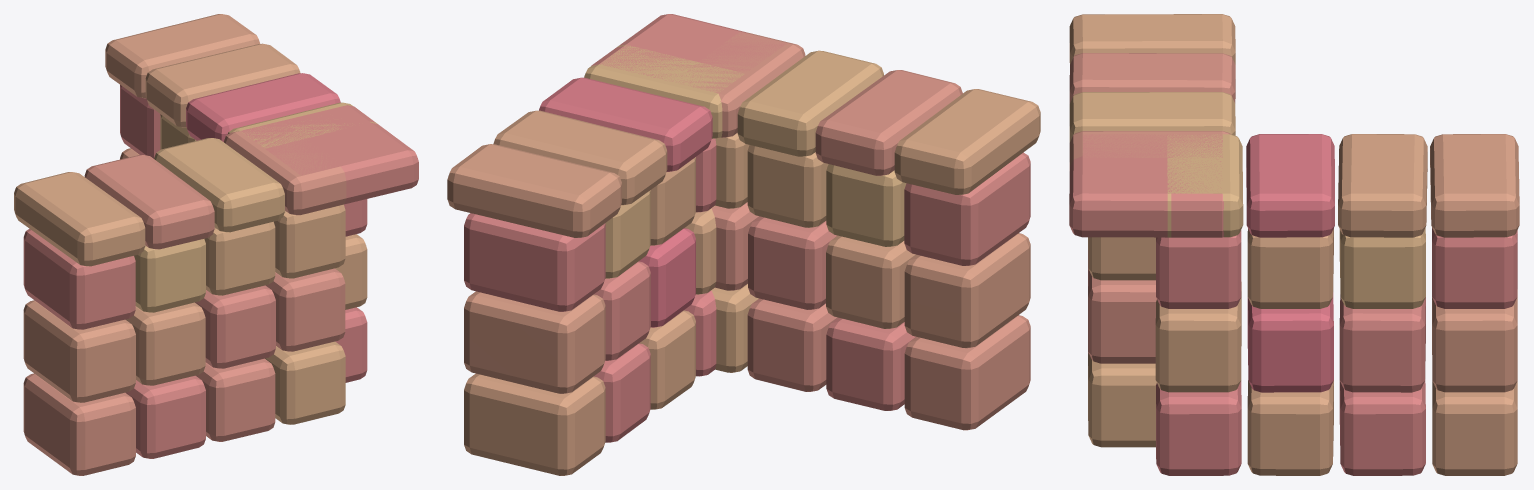
The model's file is WC_RIVER_Bank_Outer_A.glb.
The picture shows the model from 3 angles, left to right: view 1: azimuth 30°, elevation 25°; view 2: azimuth 150°, elevation 25°; view 3: azimuth 270°, elevation 25°; orthographic projection. The views are drawn at different scales.
Visible parts, largest first — view 1: WC_RIVER_Bank_Outer_A_RenderMesh; view 2: WC_RIVER_Bank_Outer_A_RenderMesh; view 3: WC_RIVER_Bank_Outer_A_RenderMesh.
Part boxes in pixels (<box>): WC_RIVER_Bank_Outer_A_RenderMesh: <box>14,14,418,475</box>; WC_RIVER_Bank_Outer_A_RenderMesh: <box>447,14,1040,475</box>; WC_RIVER_Bank_Outer_A_RenderMesh: <box>1069,14,1519,475</box>.
Bounding box in the file's own units: 1.22 × 0.8675 × 1.22.
